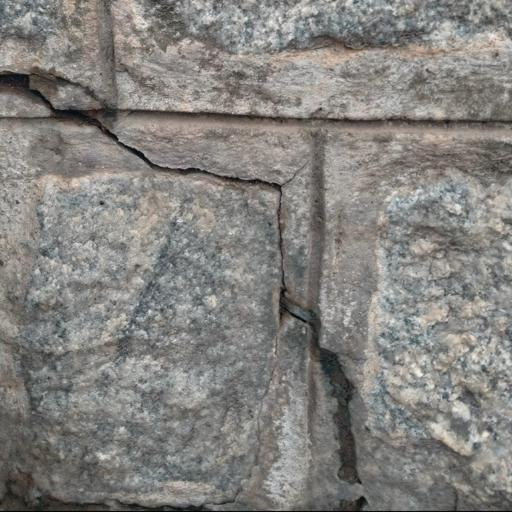major_crack: (3, 51, 376, 496)
